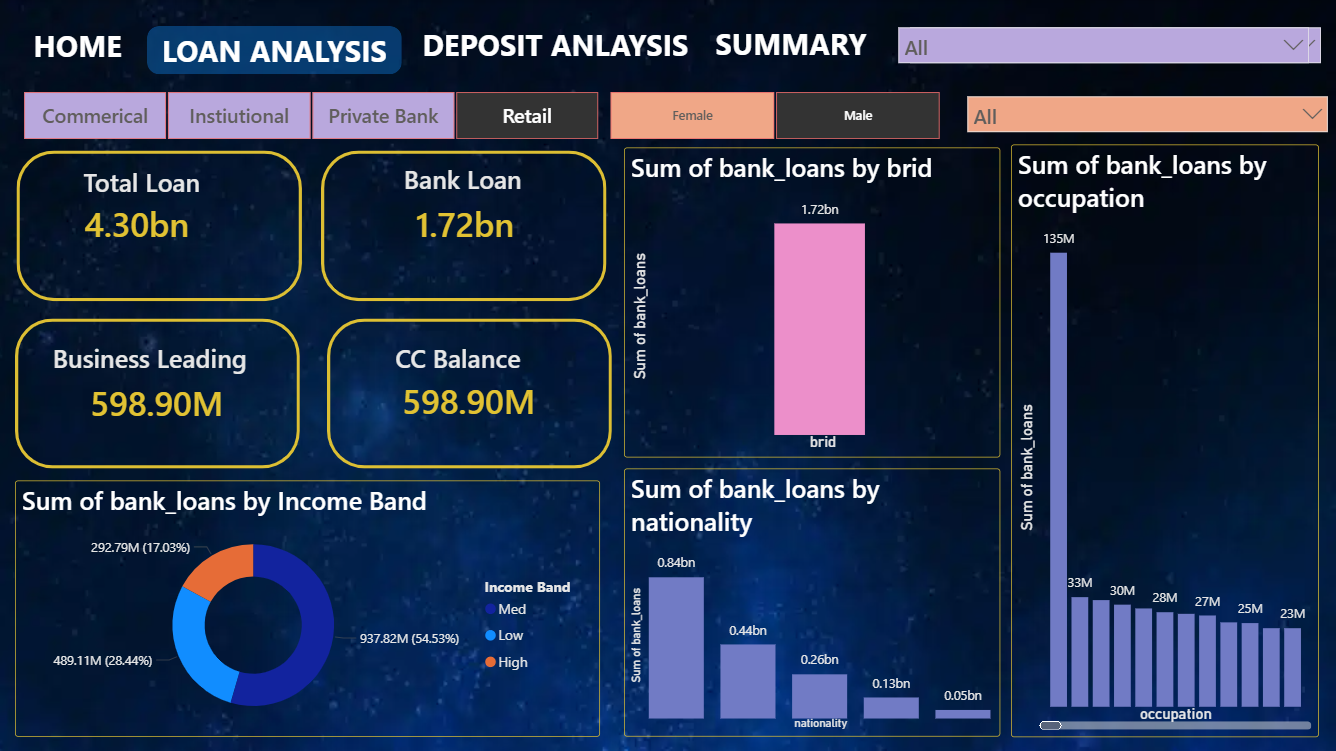

Layout of this report page (visuals, bound fields, positions):
{"tool":"powerbi","page":{"name":"Loan Analysis","canvas":[1280,720],"ordinal":1},"visuals":[{"type":"shape","box":[0,4.8,154.3,79.5],"z":0},{"type":"shape","box":[143.2,25.4,243.4,46.1],"z":1000},{"type":"shape","box":[399.2,9.5,267.2,66.8],"z":2000},{"type":"actionButton","box":[671.2,25.4,190.9,46.1],"z":3000},{"type":"shape","box":[666.5,4.8,184.5,76.3],"z":4000},{"type":"slicer","fields":{"Values":["Advanced_Cleaned_Messy2.joined_bank"]},"box":[862.1,17.5,412,58.9],"z":5000},{"type":"shape","box":[17.5,305.4,272,143.2],"z":6000},{"type":"shape","box":[308.9,145.4,272.6,143.8],"z":7000},{"type":"shape","box":[18.2,145.4,272.6,143.8],"z":8000},{"type":"shape","box":[314.9,305.4,272,143.2],"z":9000},{"type":"slicer","fields":{"Values":["Advanced_Cleaned_Messy2.brid"]},"box":[0,81.1,598.1,58.9],"z":10000},{"type":"slicer","fields":{"Values":["Advanced_Cleaned_Messy2.joined_bank"]},"box":[851,17.5,412,58.9],"z":11000},{"type":"slicer","fields":{"Values":["Advanced_Cleaned_Messy2.genderid"]},"box":[559.9,81.1,364.2,58.9],"z":12000},{"type":"slicer","fields":{"Values":["Advanced_Cleaned_Messy2.iaid"]},"box":[916.2,82.7,364.2,58.9],"z":13000},{"type":"textbox","box":[77.9,152.7,143.2,44.5],"z":14000},{"type":"cardVisual","fields":{"Data":["Advanced_Cleaned_Messy2.Total Loan"]},"box":[54.1,176.6,184.5,74.8],"z":15000},{"type":"cardVisual","fields":{"Data":["Sum(Advanced_Cleaned_Messy2.saving_accounts)"]},"box":[60.4,346.8,189.3,74.8],"z":16000},{"type":"cardVisual","fields":{"Data":["Sum(Advanced_Cleaned_Messy2.saving_accounts)"]},"box":[357.9,345.2,190.9,74.8],"z":17000},{"type":"cardVisual","fields":{"Data":["Sum(Advanced_Cleaned_Messy2.bank_loans)"]},"box":[370.6,176.6,189.3,74.8],"z":18000},{"type":"textbox","box":[357.9,151.1,173.4,50.9],"z":19000},{"type":"textbox","box":[31.8,321.3,229,55.7],"z":20000},{"type":"textbox","box":[349.9,321.3,181.3,55.7],"z":21000},{"type":"donutChart","fields":{"Y":["Sum(Advanced_Cleaned_Messy2.bank_loans)"],"Category":["Advanced_Cleaned_Messy2.Income Band "]},"box":[17.2,459.8,558.6,244.9],"z":22000},{"type":"clusteredColumnChart","fields":{"Category":["Advanced_Cleaned_Messy2.brid"],"Y":["Sum(Advanced_Cleaned_Messy2.bank_loans)"]},"box":[598.1,141.6,359.5,295.9],"z":23000},{"type":"clusteredColumnChart","fields":{"Category":["Advanced_Cleaned_Messy2.nationality"],"Y":["Sum(Advanced_Cleaned_Messy2.bank_loans)"]},"box":[598.1,448.6,359.5,256.1],"z":24000},{"type":"clusteredColumnChart","fields":{"Y":["Sum(Advanced_Cleaned_Messy2.bank_loans)"],"Category":["Advanced_Cleaned_Messy2.occupation"]},"box":[968.7,138.4,294.3,566.3],"z":25000}]}

Visuals, with their boxes in screenshot pixels (x1, y1, x2, y2), scaled from the page's 1280x720 canvas onto the 1336x751 screenshot:
shape: 0, 5, 161, 88
shape: 149, 26, 404, 75
shape: 417, 10, 696, 80
actionButton: 701, 26, 900, 75
shape: 696, 5, 888, 85
slicer - Advanced_Cleaned_Messy2.joined_bank: 900, 18, 1330, 80
shape: 18, 319, 302, 468
shape: 322, 152, 607, 302
shape: 19, 152, 304, 302
shape: 329, 319, 613, 468
slicer - Advanced_Cleaned_Messy2.brid: 0, 85, 624, 146
slicer - Advanced_Cleaned_Messy2.joined_bank: 888, 18, 1318, 80
slicer - Advanced_Cleaned_Messy2.genderid: 584, 85, 965, 146
slicer - Advanced_Cleaned_Messy2.iaid: 956, 86, 1335, 148
textbox: 81, 159, 231, 206
cardVisual - Advanced_Cleaned_Messy2.Total Loan: 56, 184, 249, 262
cardVisual - Sum(Advanced_Cleaned_Messy2.saving_accounts): 63, 362, 261, 440
cardVisual - Sum(Advanced_Cleaned_Messy2.saving_accounts): 374, 360, 573, 438
cardVisual - Sum(Advanced_Cleaned_Messy2.bank_loans): 387, 184, 584, 262
textbox: 374, 158, 555, 211
textbox: 33, 335, 272, 393
textbox: 365, 335, 554, 393
donutChart - Sum(Advanced_Cleaned_Messy2.bank_loans) x Advanced_Cleaned_Messy2.Income Band : 18, 480, 601, 735
clusteredColumnChart - Advanced_Cleaned_Messy2.brid x Sum(Advanced_Cleaned_Messy2.bank_loans): 624, 148, 999, 456
clusteredColumnChart - Advanced_Cleaned_Messy2.nationality x Sum(Advanced_Cleaned_Messy2.bank_loans): 624, 468, 999, 735
clusteredColumnChart - Sum(Advanced_Cleaned_Messy2.bank_loans) x Advanced_Cleaned_Messy2.occupation: 1011, 144, 1318, 735
